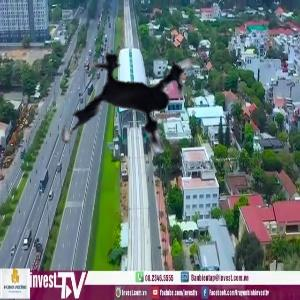drone: (48, 23, 225, 200)
